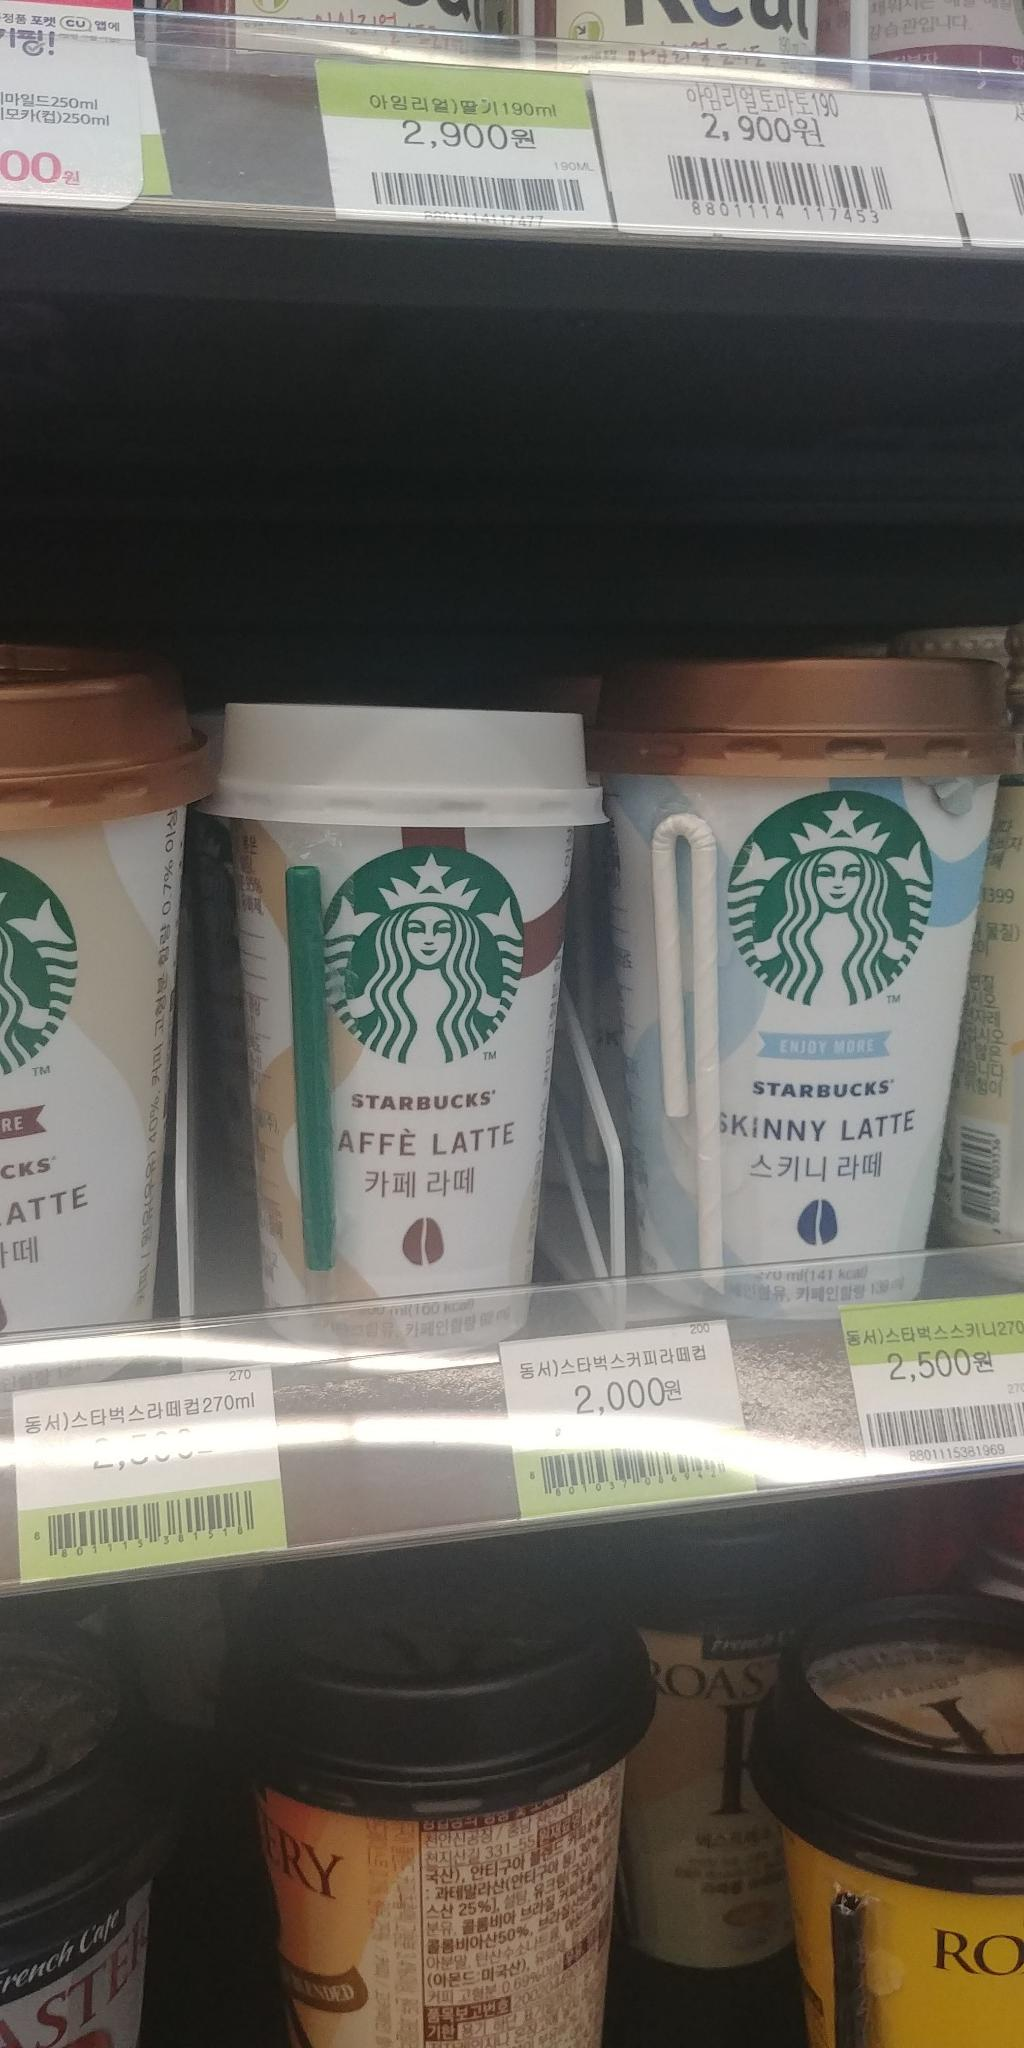starbucks_cafelatte: (0, 645, 205, 1371)
